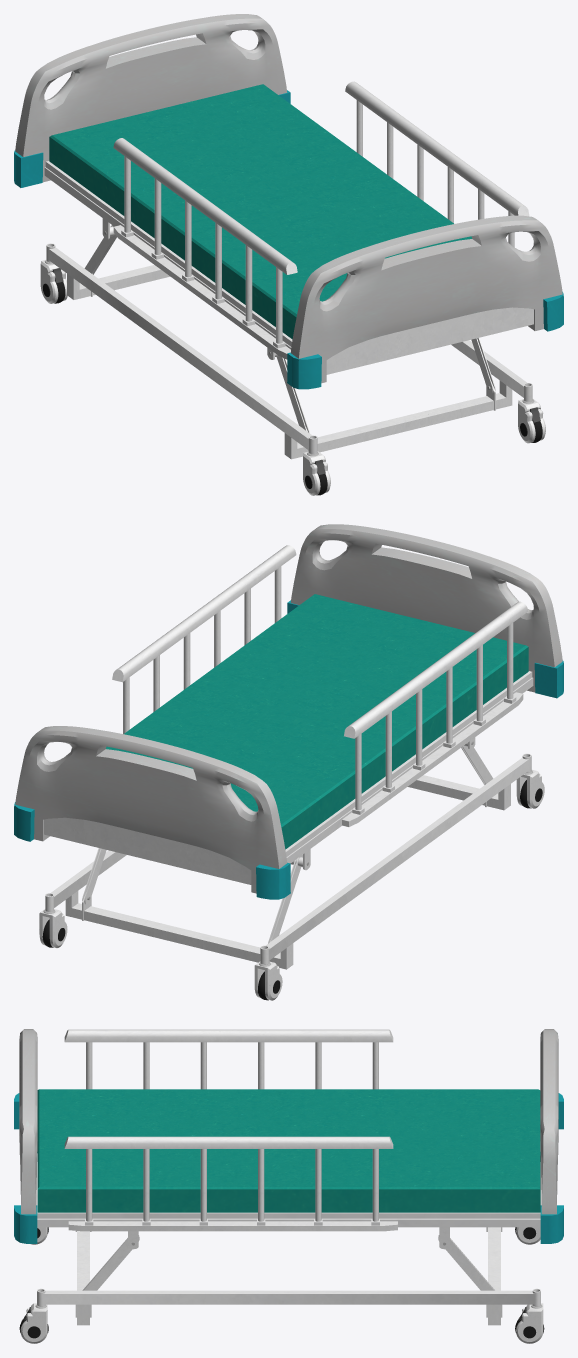
The model's file is HospitalBed.fbx.
3 views of the same model, one above another, from view 1: azimuth 30°, elevation 25°; view 2: azimuth 150°, elevation 25°; view 3: azimuth 270°, elevation 25° (orthographic). The views are drawn at different scales.
Parts seen in each view (by area): view 1: Plane; view 2: Plane; view 3: Plane.
Part boxes in pixels (<box>): Plane: <box>14,14,563,495</box>; Plane: <box>14,524,563,1000</box>; Plane: <box>14,1029,563,1343</box>.
Size of the model in its own units: 880 by 739 by 1643.
